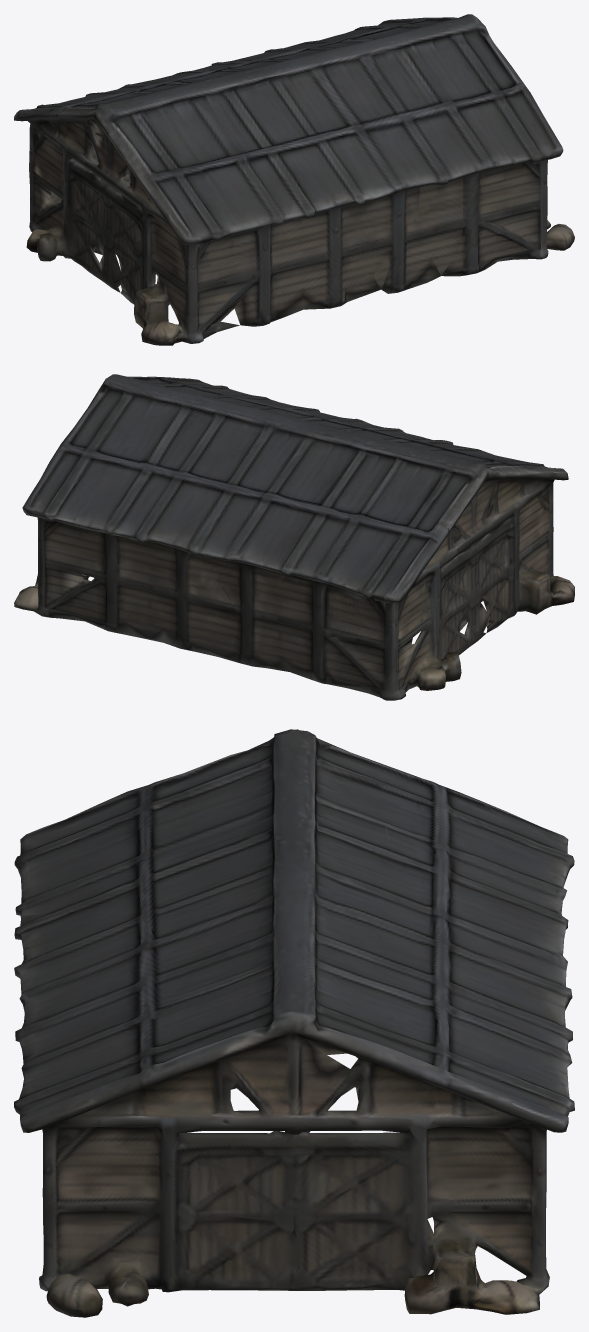
The model's file is warehouse.glb.
3 renders of one model, top to bottom at view 1: azimuth 30°, elevation 25°; view 2: azimuth 150°, elevation 25°; view 3: azimuth 270°, elevation 25°, orthographic. The views are drawn at different scales.
Parts seen in each view (by area): view 1: Warehouse; view 2: Warehouse; view 3: Warehouse.
Boxes of the visible parts, <box> form: Warehouse: <box>14,14,574,345</box>; Warehouse: <box>14,374,574,700</box>; Warehouse: <box>14,729,574,1317</box>.
Bounding box in the file's own units: 6 × 2.42 × 4.33.
Materials: 1 (1 with a texture image).
